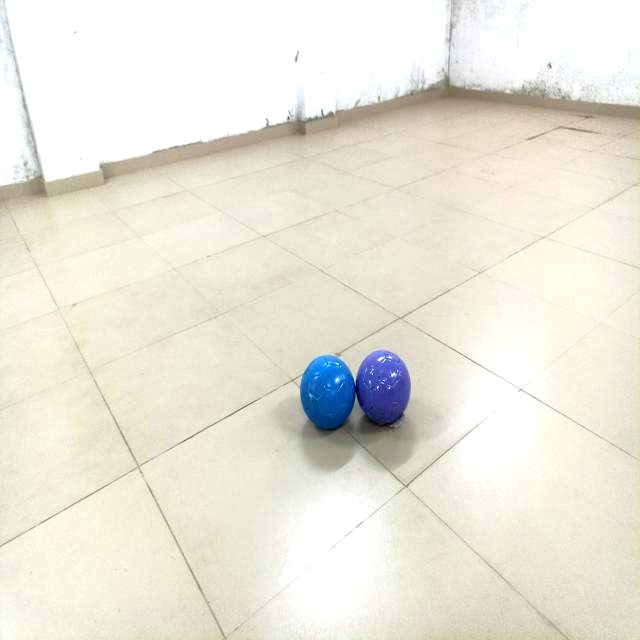blue_ball: (298, 355, 356, 433)
purple_ball: (358, 351, 410, 424)
